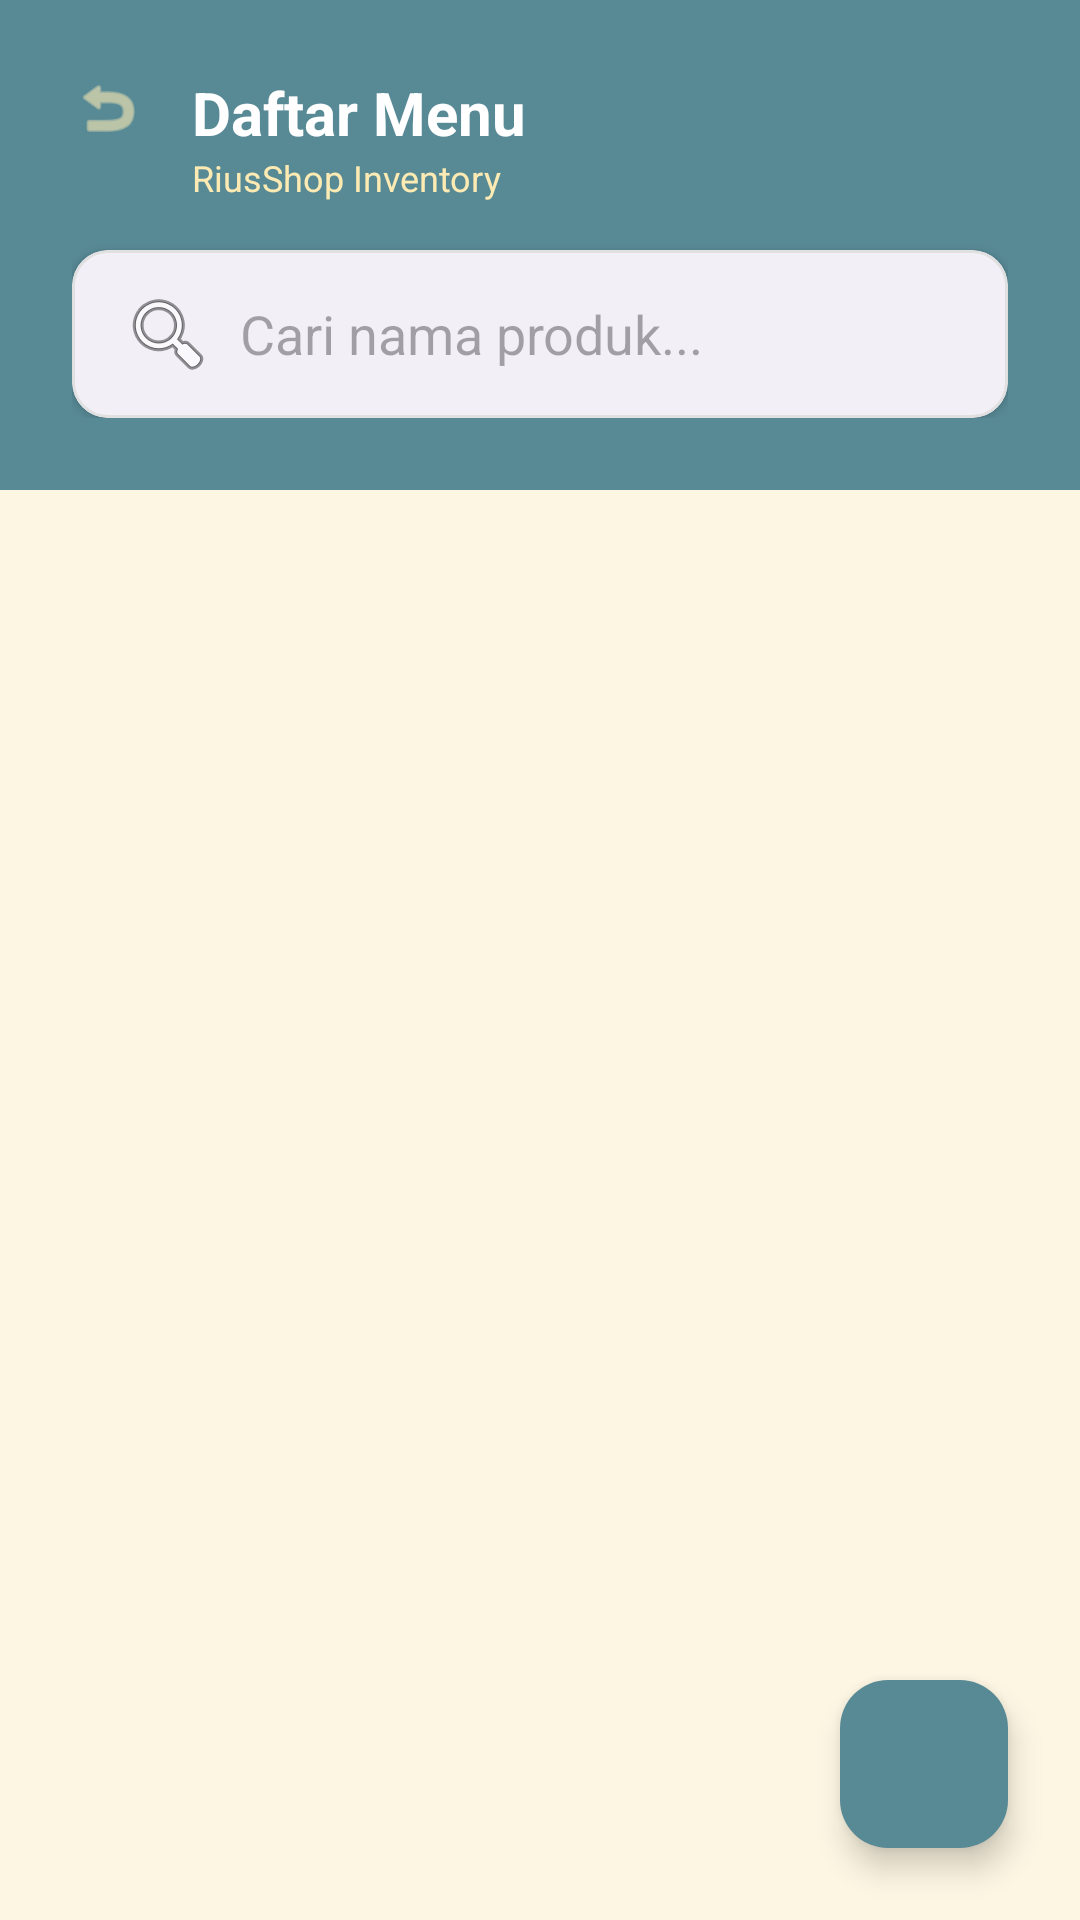

Screen size 1080px×1920px. Icon name, then its center in pixels as point (x, y):
revert: point (109, 108)
